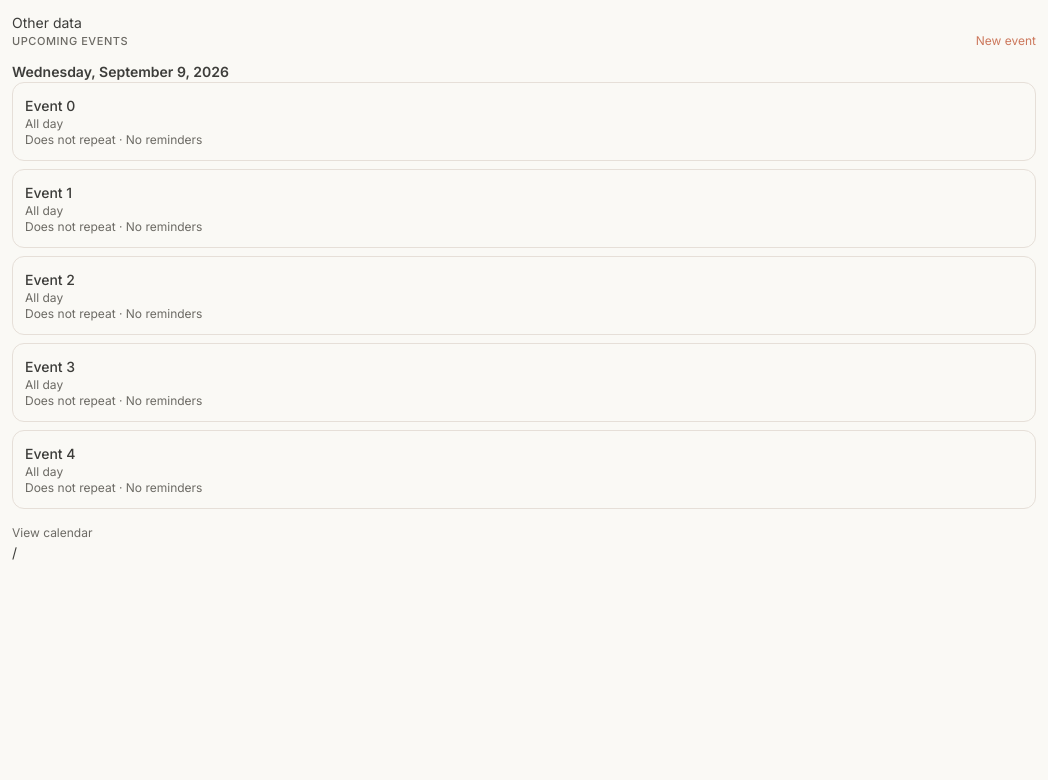
Test: bounds the Home projection and opens the selected event
Click the button "Event 0 All day Does not repeat · No reminders". click: (50, 105)
box: left=12, top=82, right=1036, bottom=160
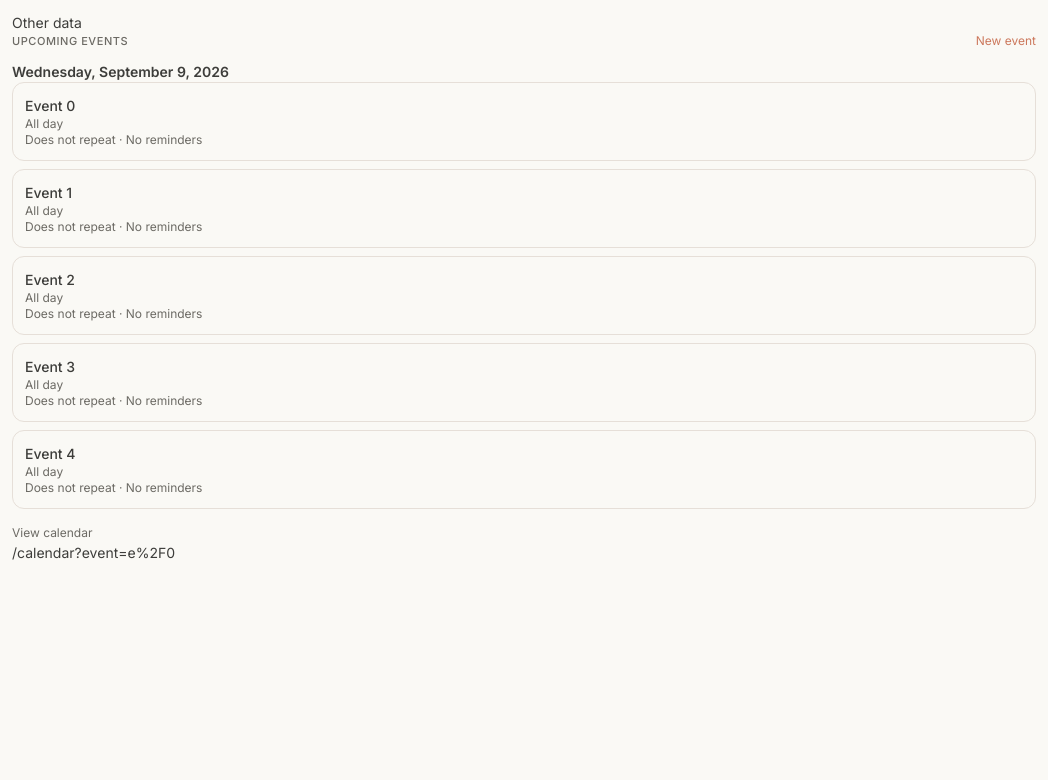
Result: the text with test id "location" reads "/calendar?event=e%2F0" at left=12, top=544, right=175, bottom=560
